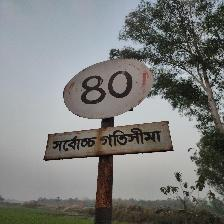Speed-limit: (44, 59, 170, 159)
